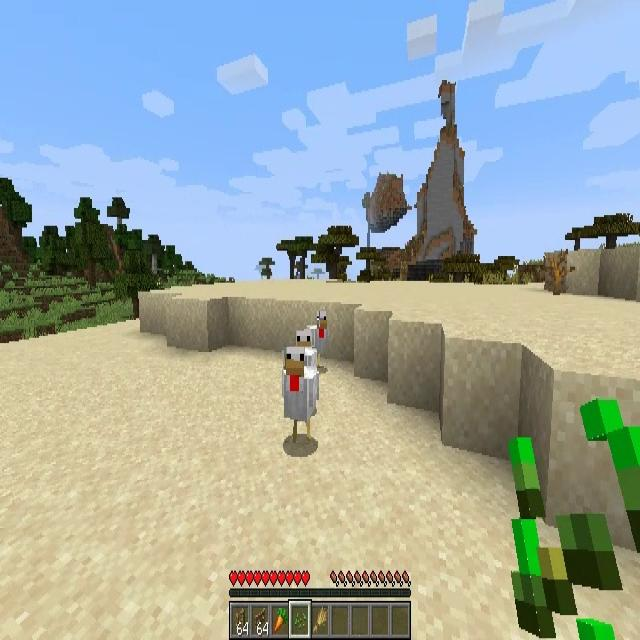duck: (284, 347, 317, 443), (310, 309, 328, 372), (284, 331, 312, 365)
